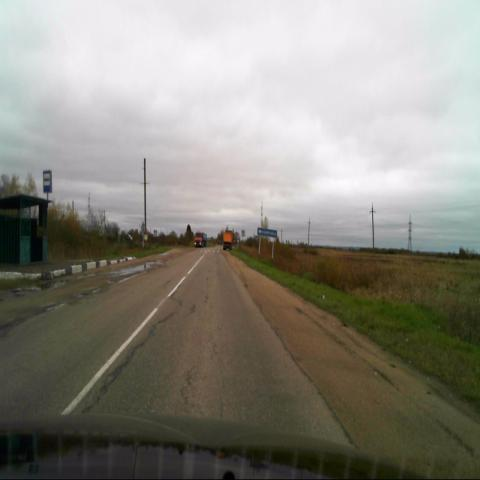5_16: (42, 170, 52, 193)
